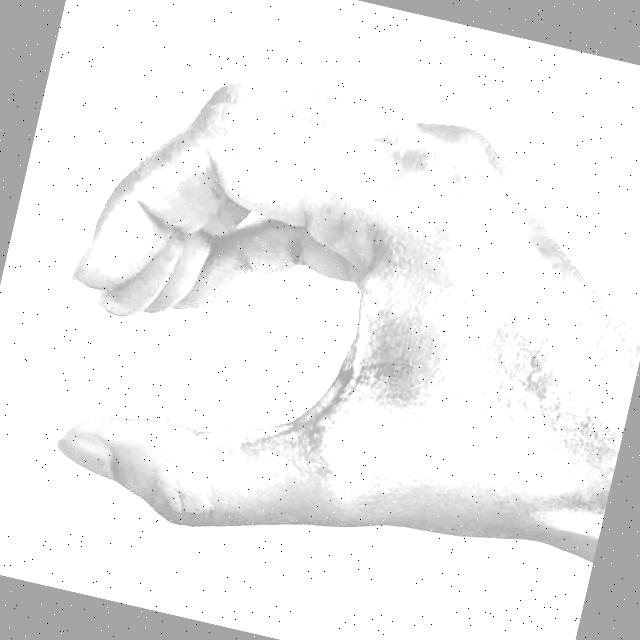Ka: (0, 3, 634, 640)
